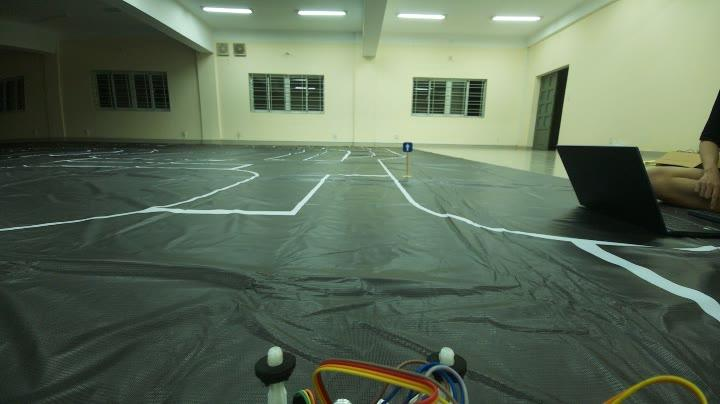onewayroad: (396, 140, 420, 162)
